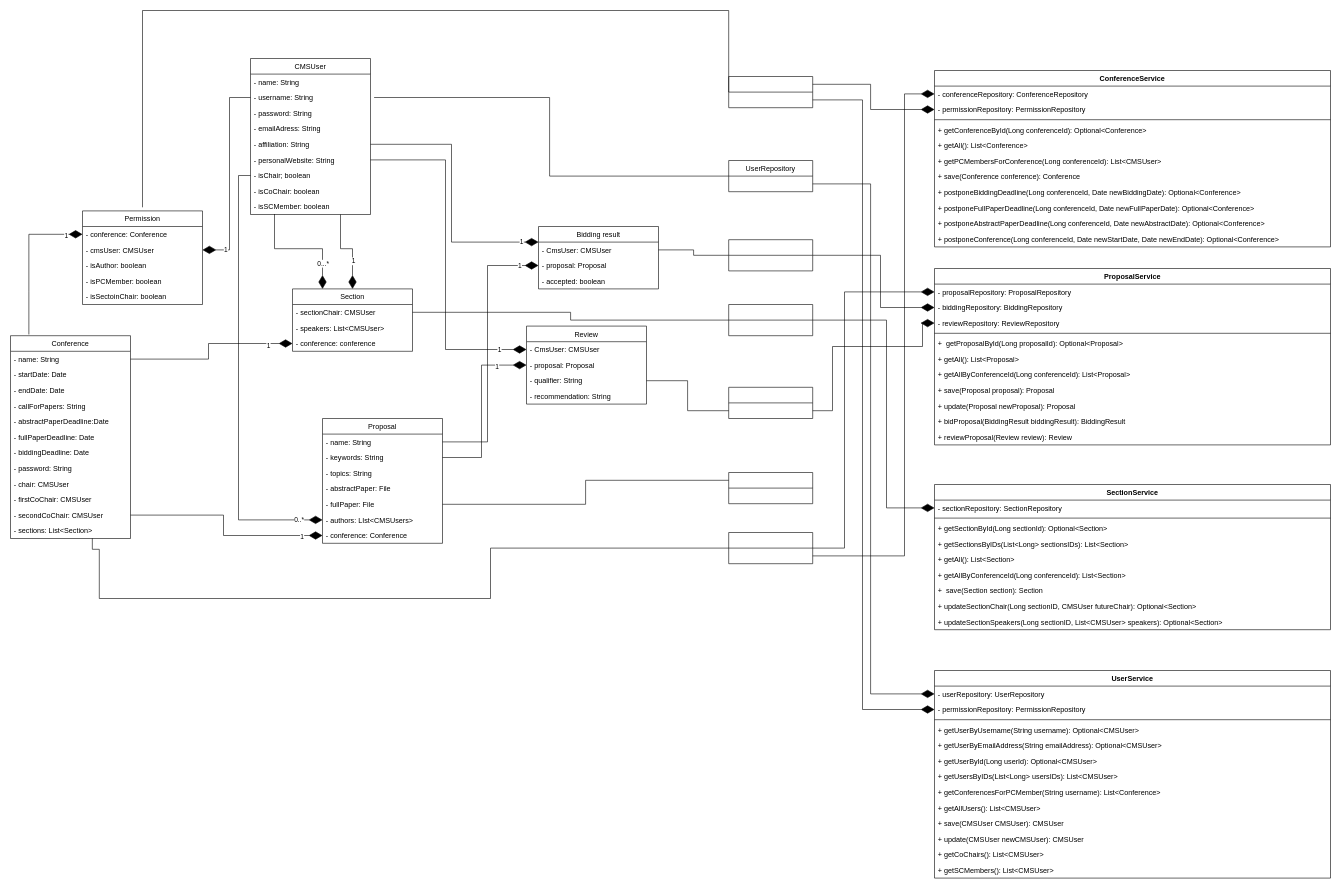
The diagram is 1341 pixels wide and 890 high, and some of its shapes have lost their labels. Each missing label, with the centre of its shape:
BiddingRepository: point 770,255
ConferenceRepository: point 770,548
PermissionRepository: point 770,92
ProposalRepository: point 770,488
ReviewRepository: point 770,402
SectionRepository: point 770,320
